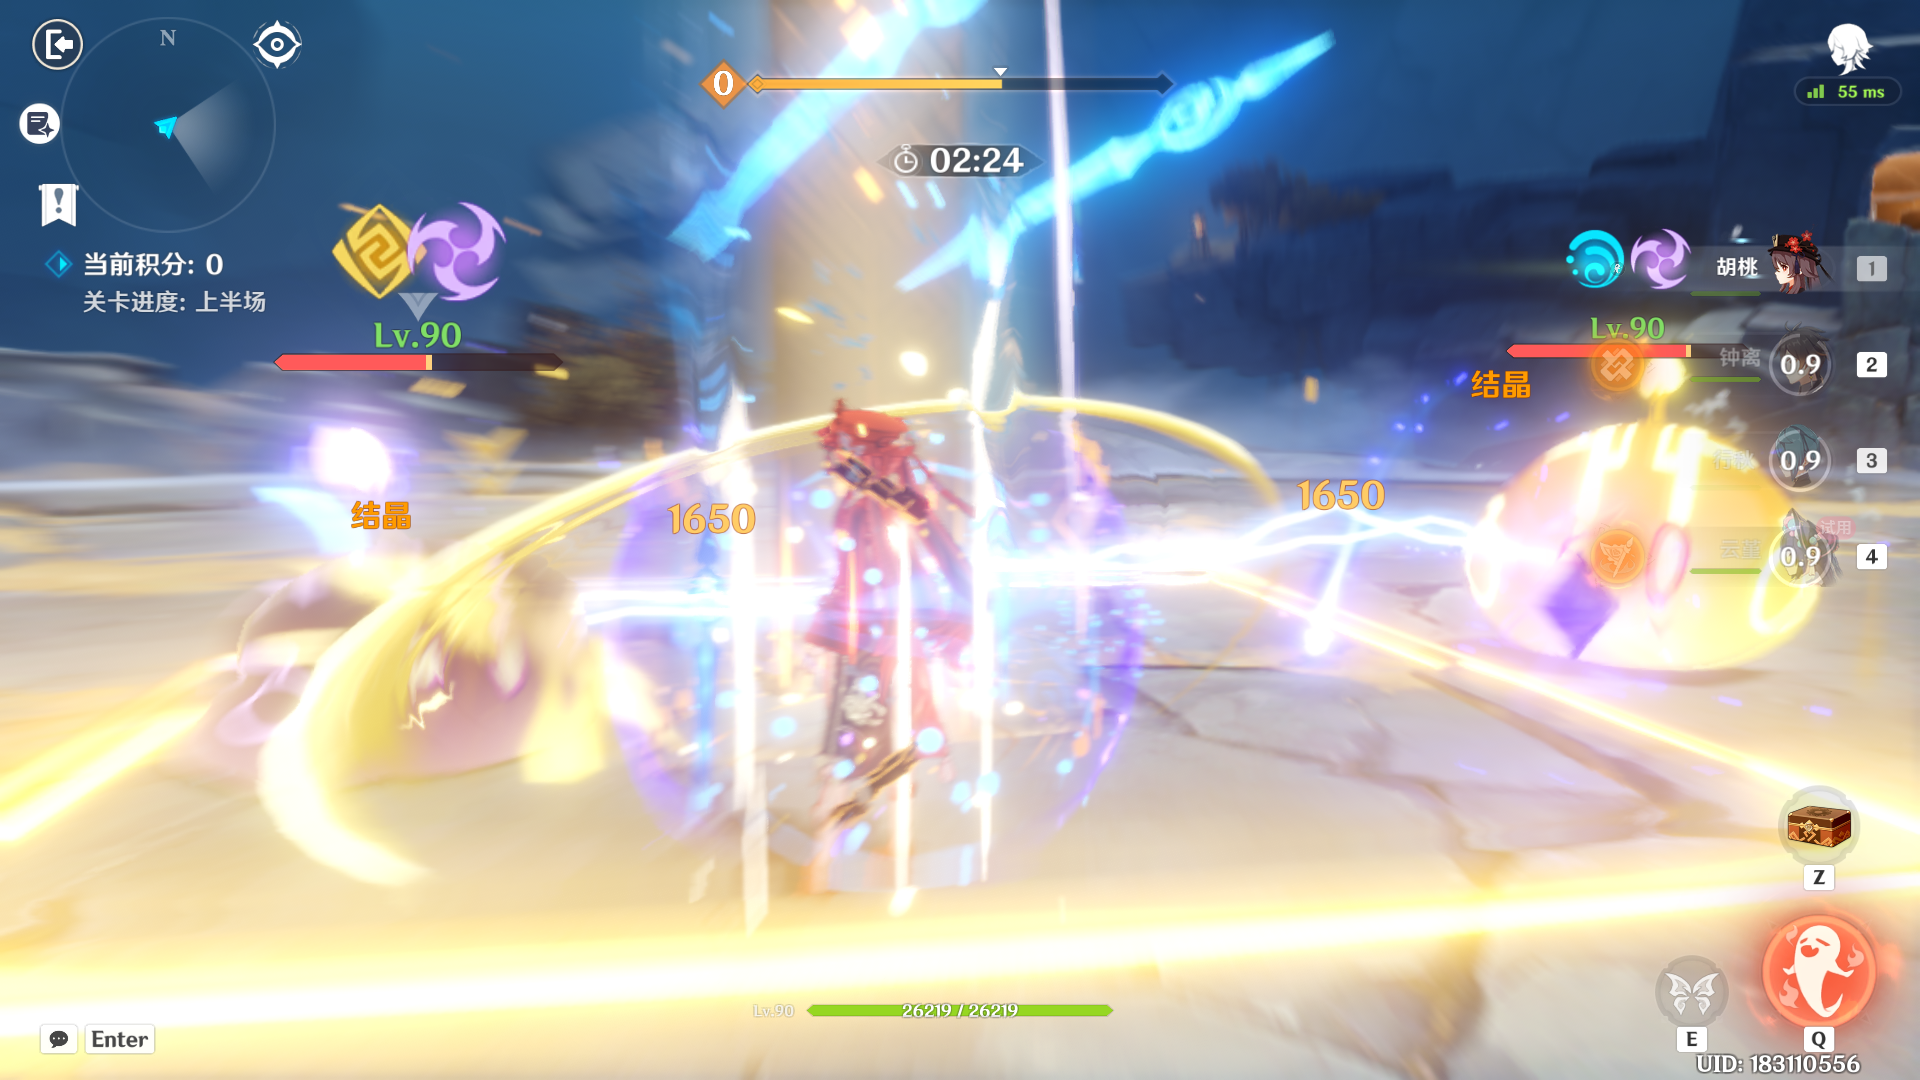slime: (1429, 384, 1859, 687)
